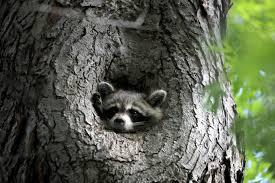raccoon: (78, 69, 178, 149)
